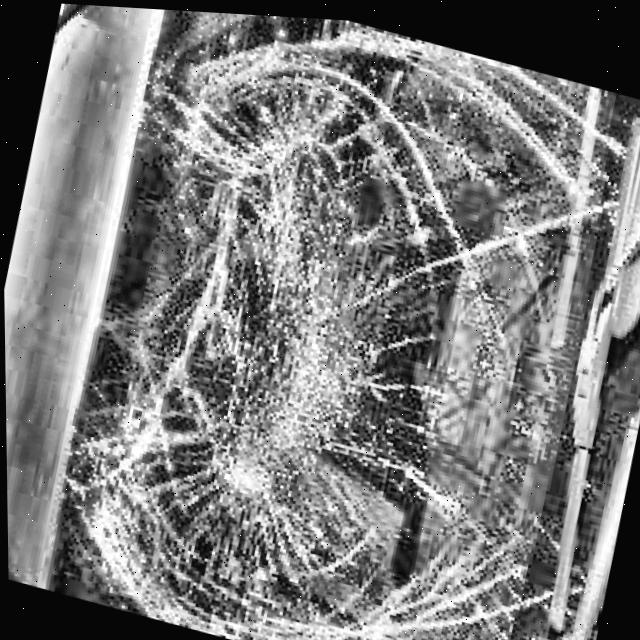glass_shatter: (49, 3, 469, 640)
